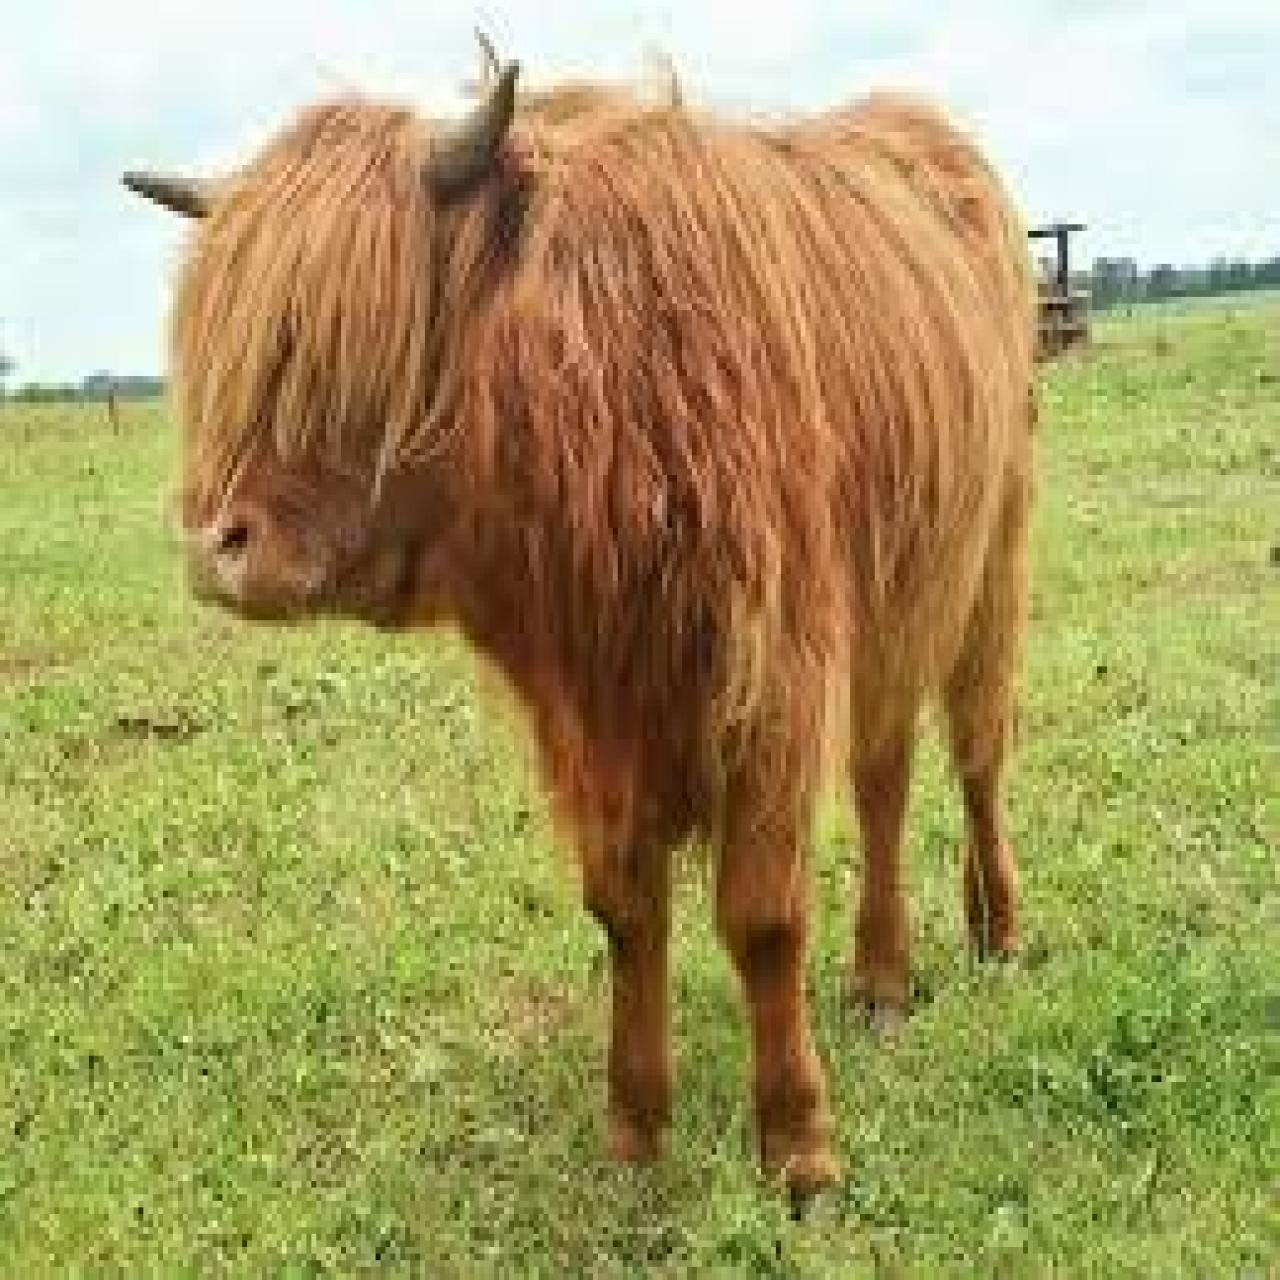cow: (116, 40, 1035, 1214)
